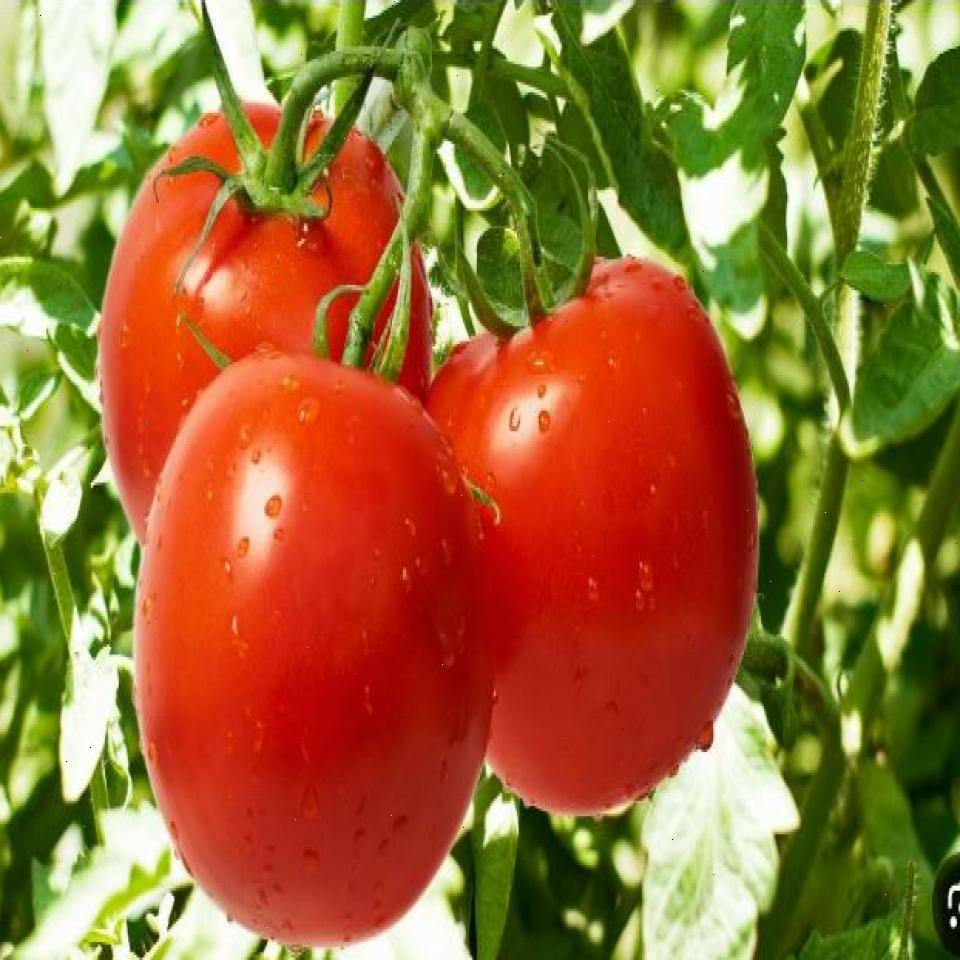Healthy: (117, 298, 500, 905), (114, 94, 422, 578)
